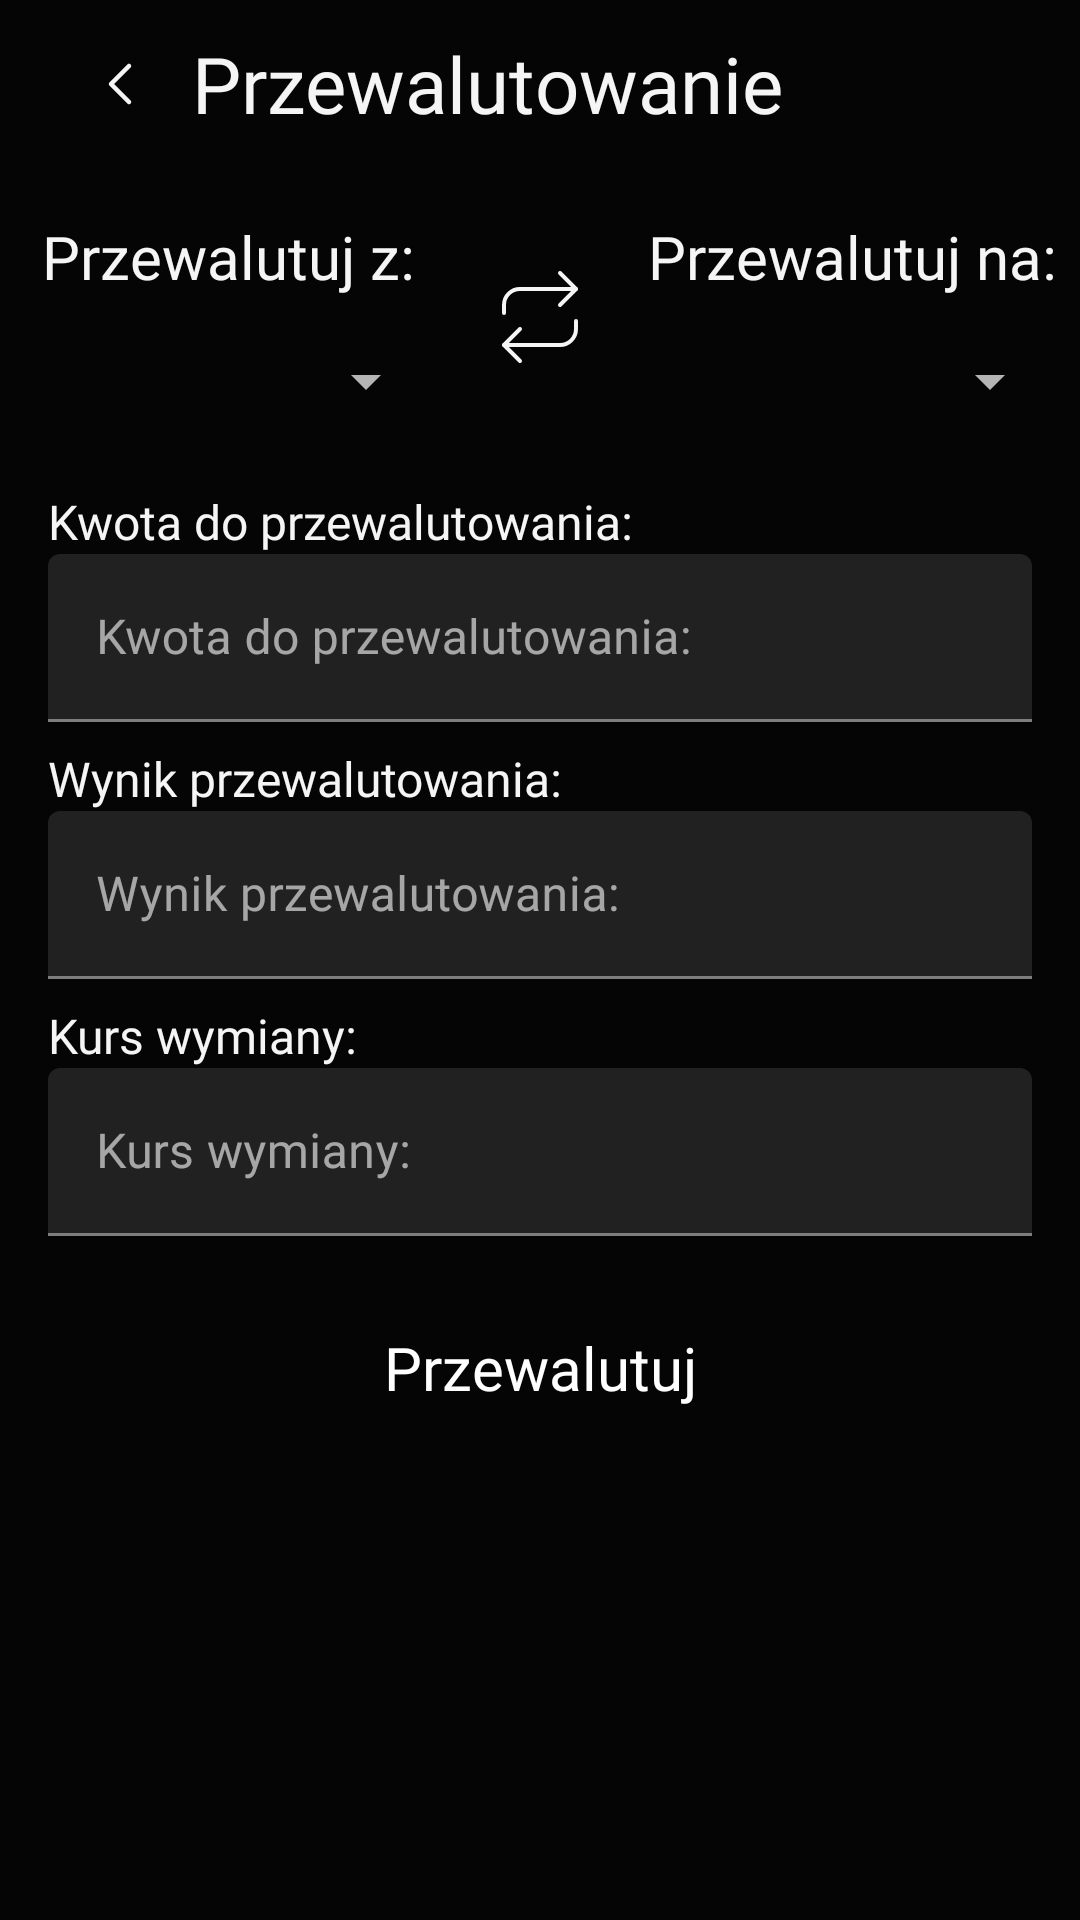

Screen size 1080w x 1920h. Icon name, then its box in pixels as bbox(x1, y1, x2, y2):
Go Back: bbox(108, 63, 132, 105)
repeat: bbox(502, 271, 578, 363)
